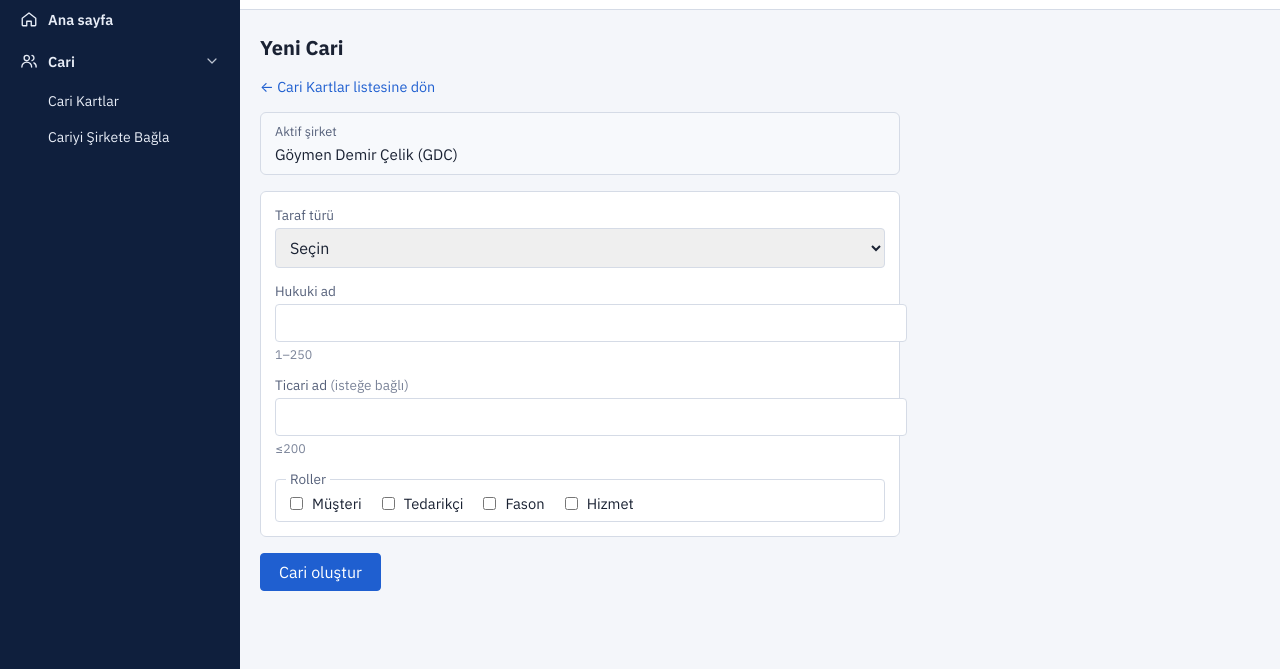
it: C-02 success (G-002 checks 1, 10) › a 201 the decoder rejects (foreign account) is NOT success: no navigation, no summary, outcome unknown
Expected: the heading "Yeni Cari" is shown, top-left (260, 34), bottom-right (344, 61)
Select "Tüzel kişi" in the dropdown labelled "Taraf türü". click: (580, 248)
box: top-left (275, 228), bottom-right (885, 268)
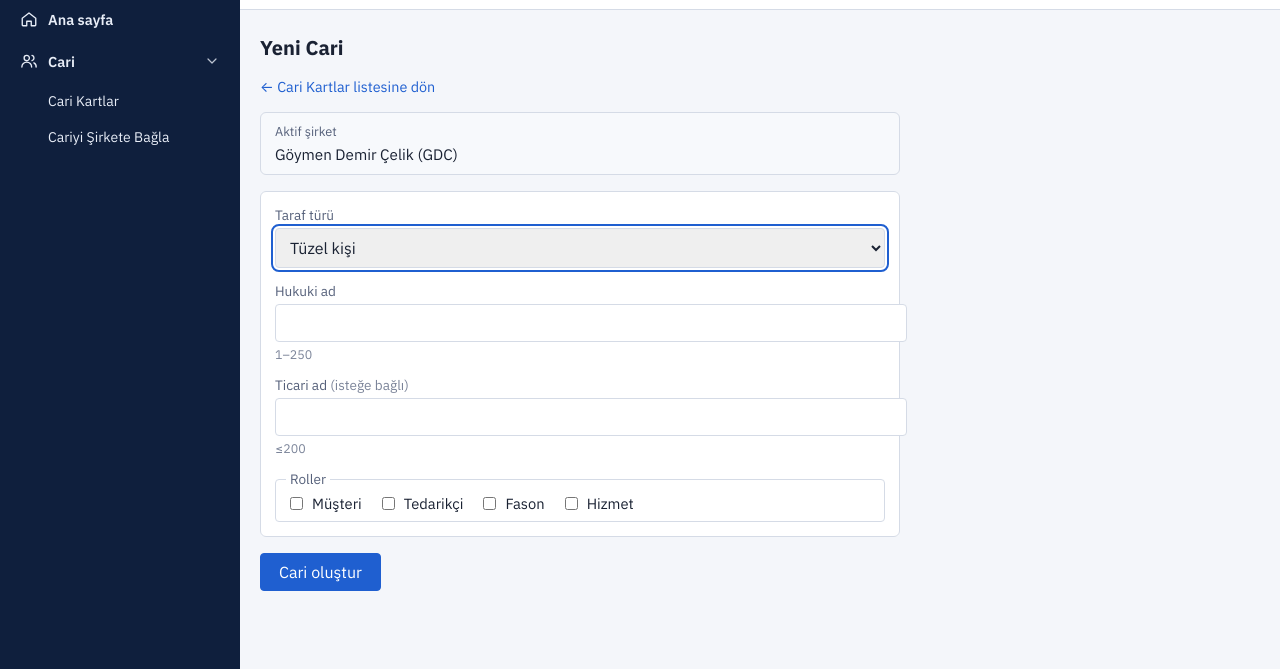
Type "Örnek Metal Sanayi ve Ticaret A.Ş." into the field labelled "Hukuki ad". click: (591, 323)
box: top-left (275, 304), bottom-right (907, 342)
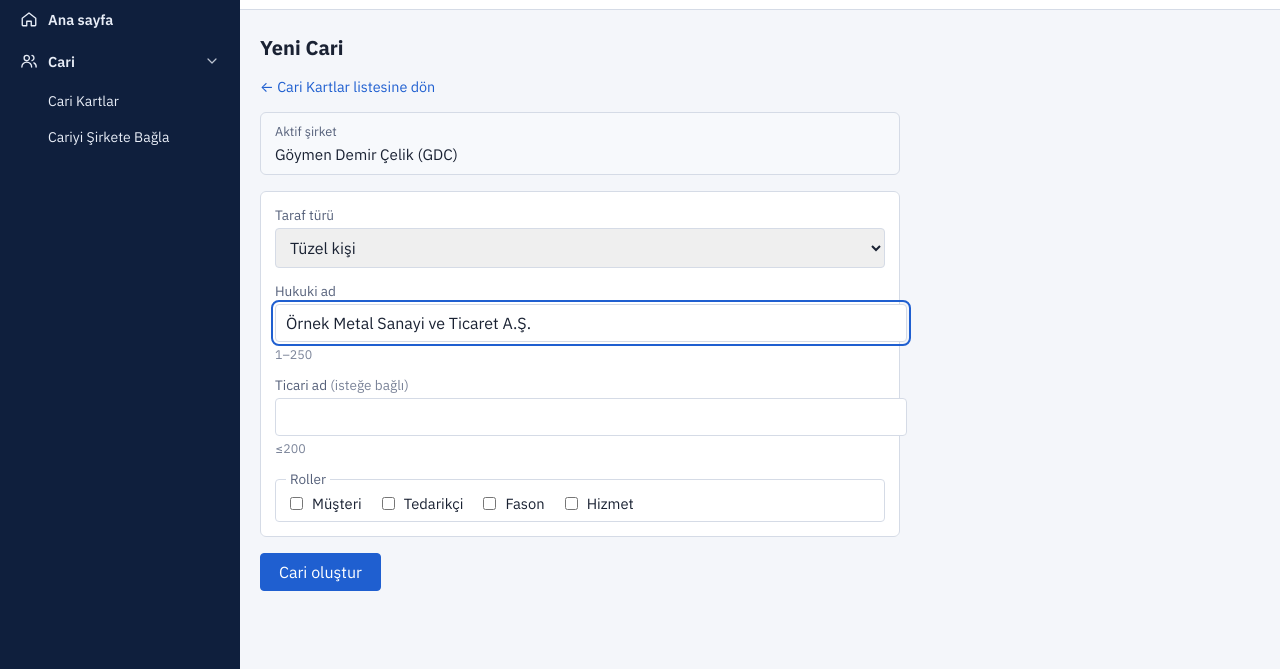
Click the checkbox labelled "Müşteri". click: (296, 504)
box: top-left (290, 497), bottom-right (303, 510)
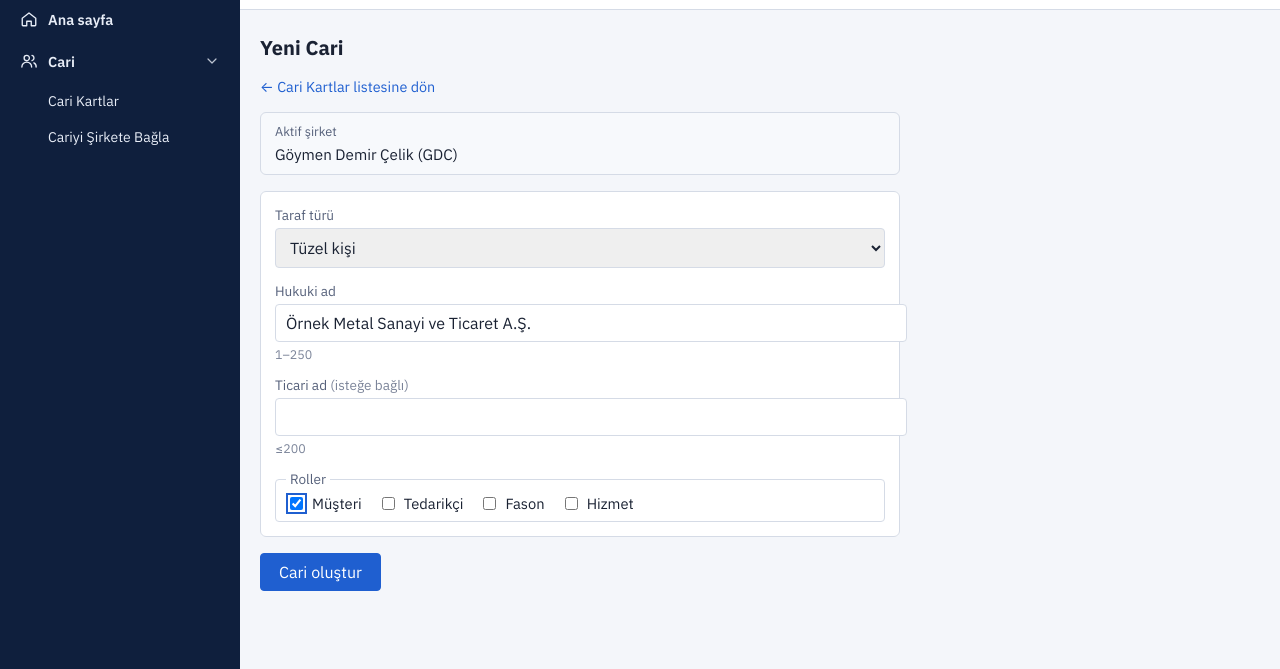
Click the checkbox labelled "Tedarikçi". click: (388, 504)
box: top-left (382, 497), bottom-right (395, 510)
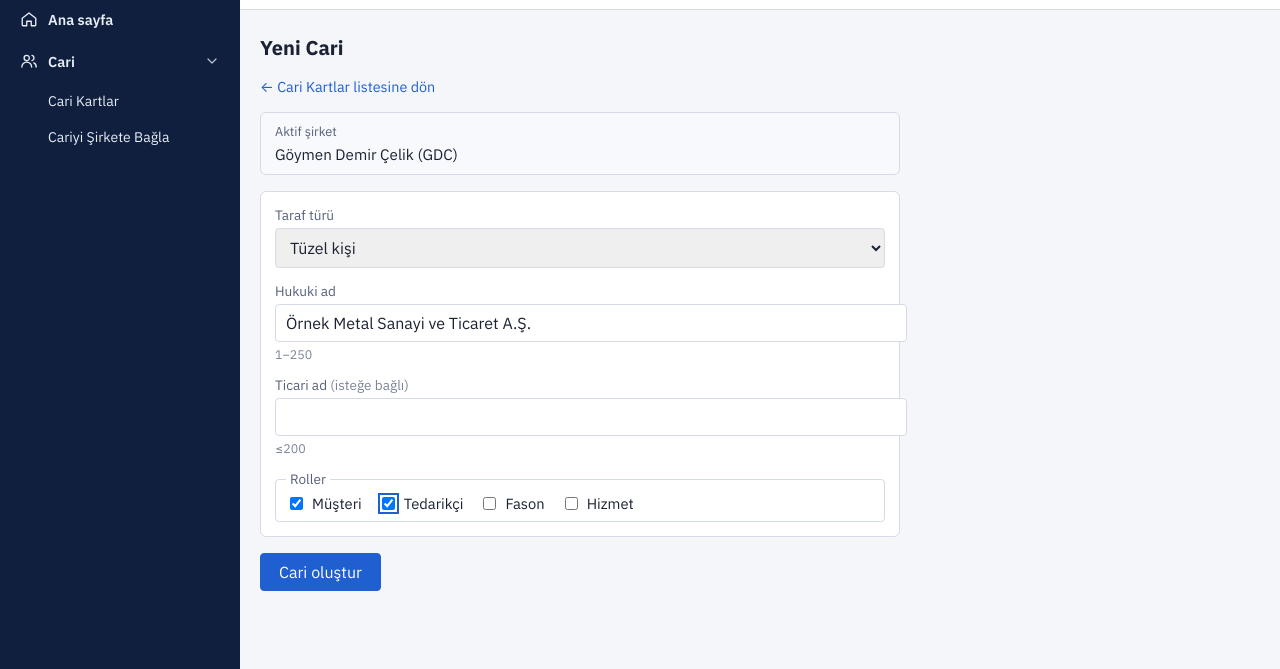
Click the button "Cari oluştur". click: (320, 572)
box: top-left (260, 553), bottom-right (381, 591)
(page scrolled)
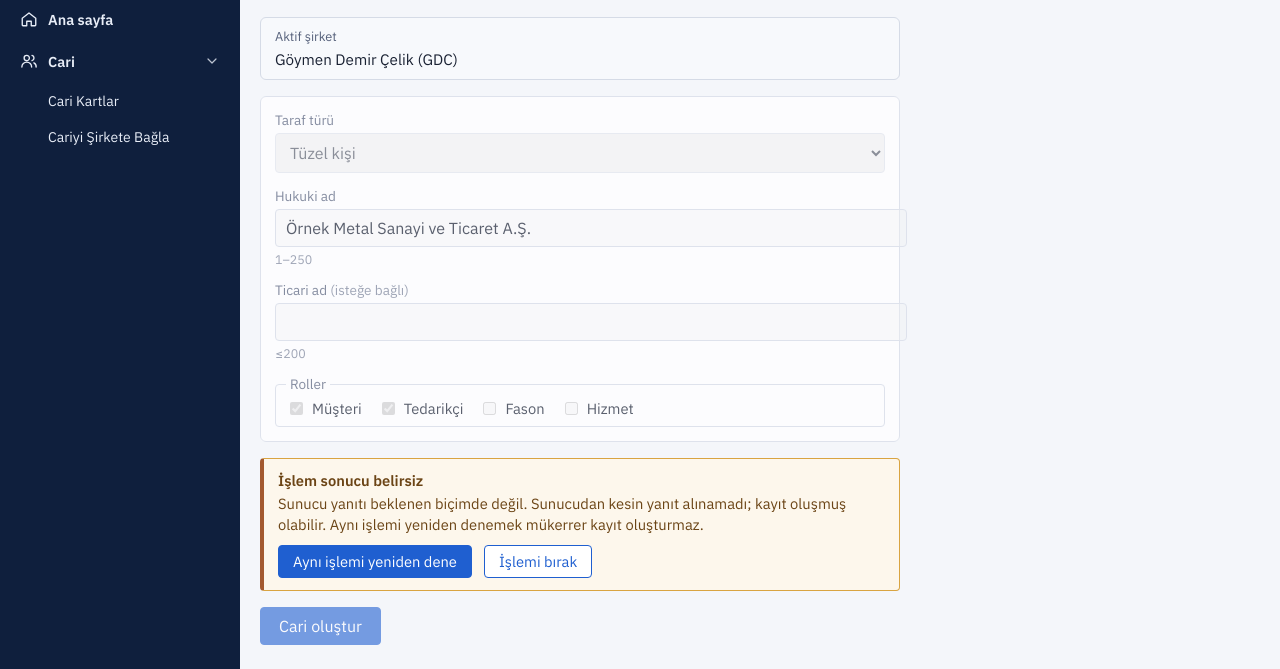
Now the message shows "Sunucu yanıtı beklenen biçimde değil.", box top-left (278, 494), bottom-right (528, 513)
